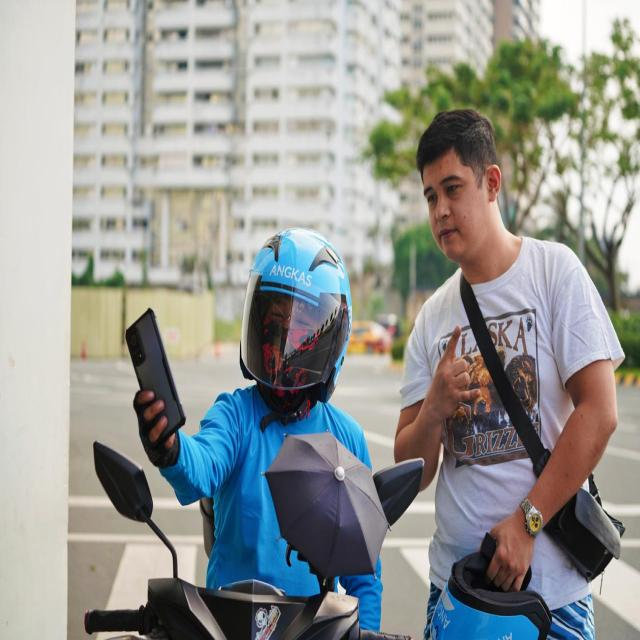helmet: (241, 227, 353, 402)
no_helmet: (412, 100, 508, 270)
